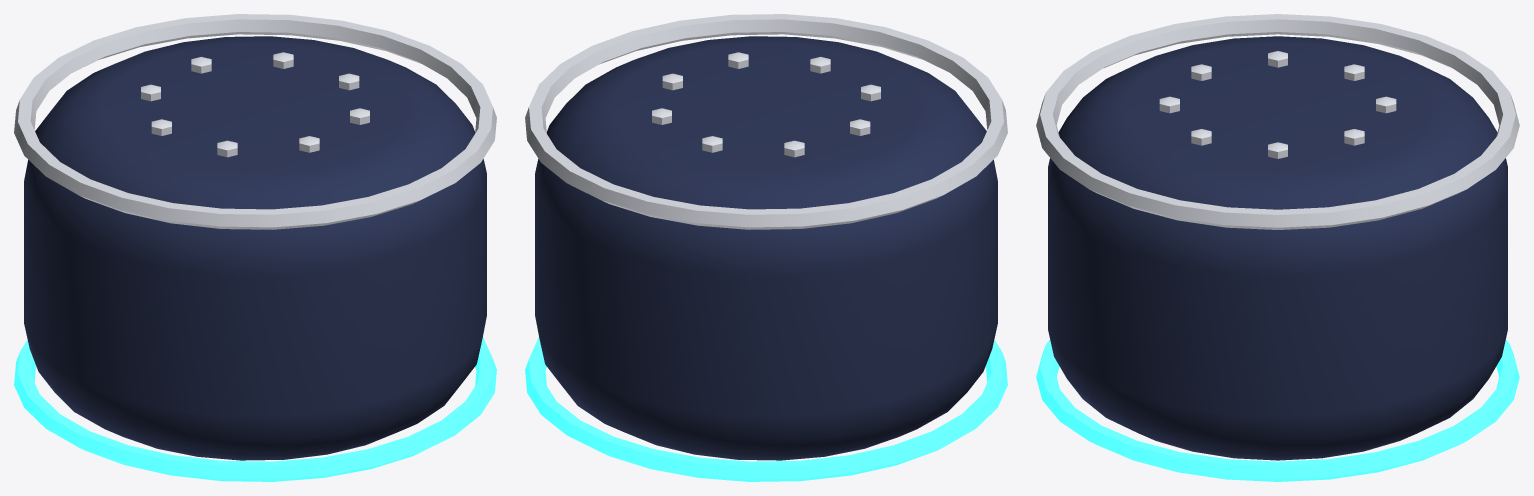
File: pouf_lounge_neon.glb
The picture shows the model from 3 angles, left to right: view 1: azimuth 30°, elevation 25°; view 2: azimuth 150°, elevation 25°; view 3: azimuth 270°, elevation 25°; orthographic projection.
Parts seen in each view (by area): view 1: pouf_lounge_neon; view 2: pouf_lounge_neon; view 3: pouf_lounge_neon.
Boxes of the visible parts, x1,y1,x2,y2 form: pouf_lounge_neon: (14,14,496,481); pouf_lounge_neon: (525,14,1007,481); pouf_lounge_neon: (1036,14,1519,481).
Bounding box in the file's own units: 0.6266 × 0.415 × 0.6266.
